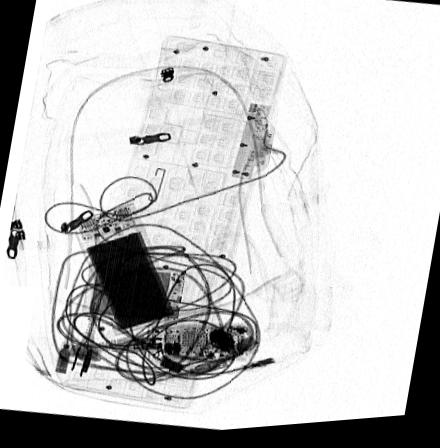Powerbank: (69, 203, 181, 337)
